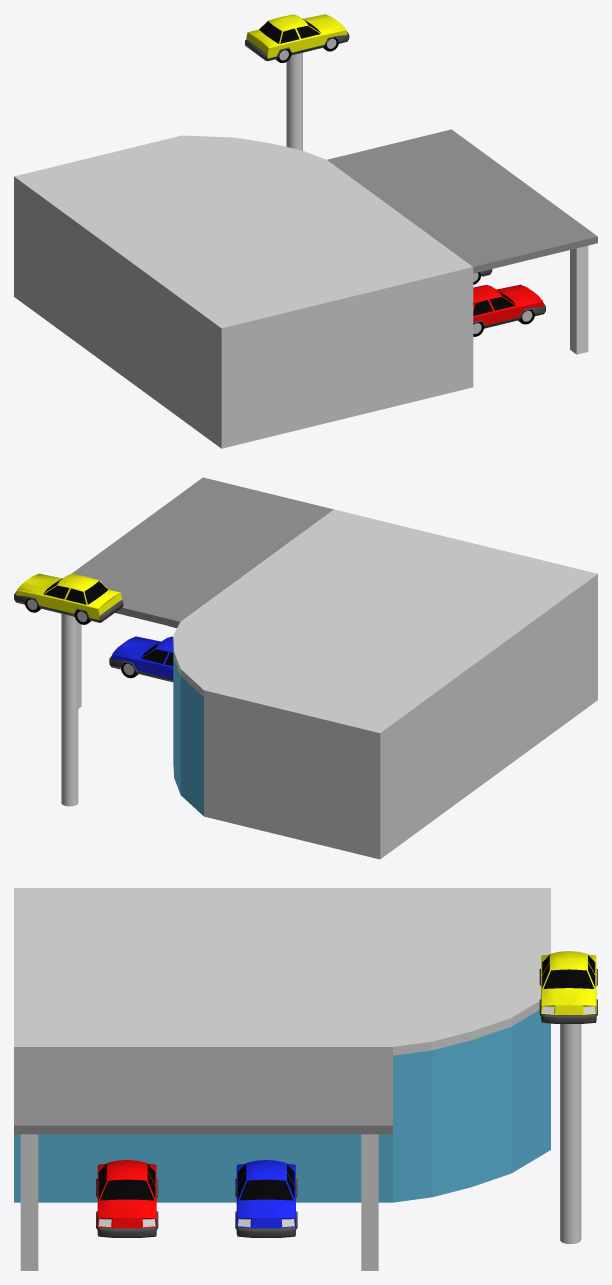
Rendered from carshop_model.fbx.
3 views of the same model, one above another, from view 1: azimuth 30°, elevation 25°; view 2: azimuth 150°, elevation 25°; view 3: azimuth 270°, elevation 25° (orthographic). The views are drawn at different scales.
Parts seen in each view (by area): view 1: 立方体; view 2: 立方体; view 3: 立方体.
Boxes of the visible parts, box(x1,y1,x2,y2) form: 立方体: box(14, 14, 597, 448); 立方体: box(14, 477, 597, 859); 立方体: box(14, 888, 597, 1270).
Bounding box in the file's own units: 355 × 192 × 369.
